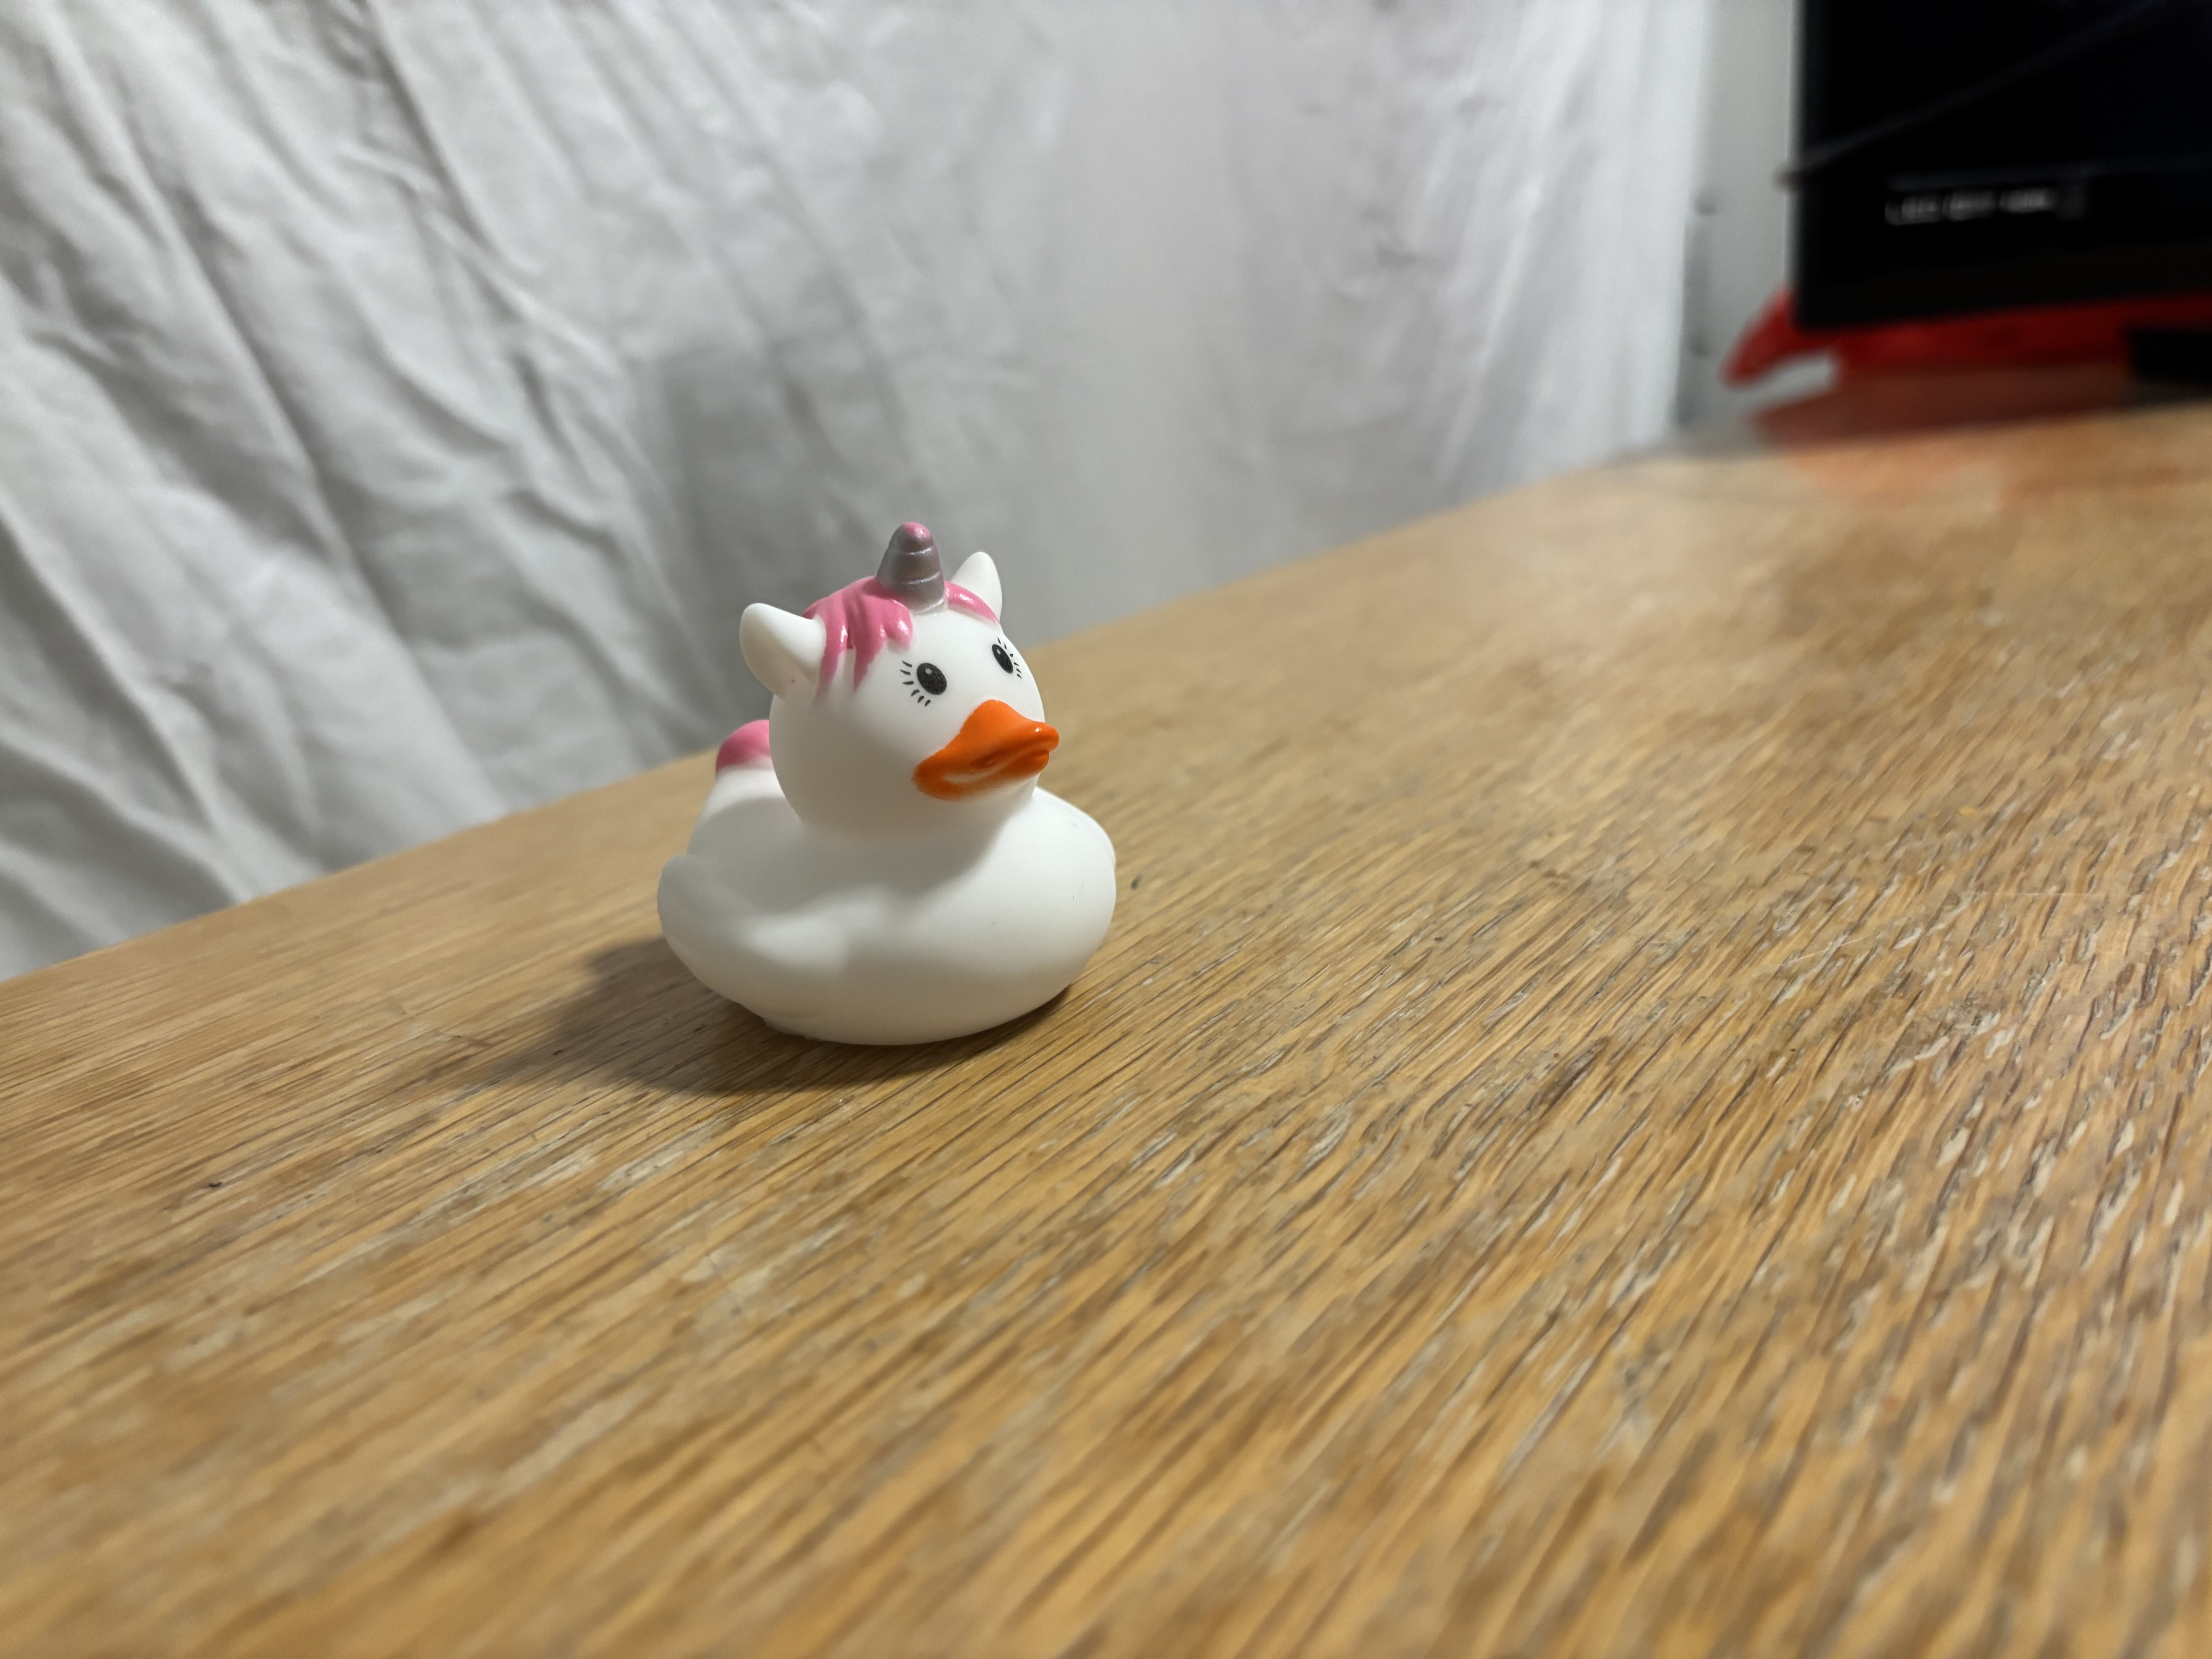Ducks (Specialty): (387, 533, 1158, 1070)
